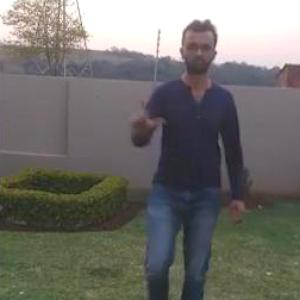land_hand: (128, 83, 172, 132)
